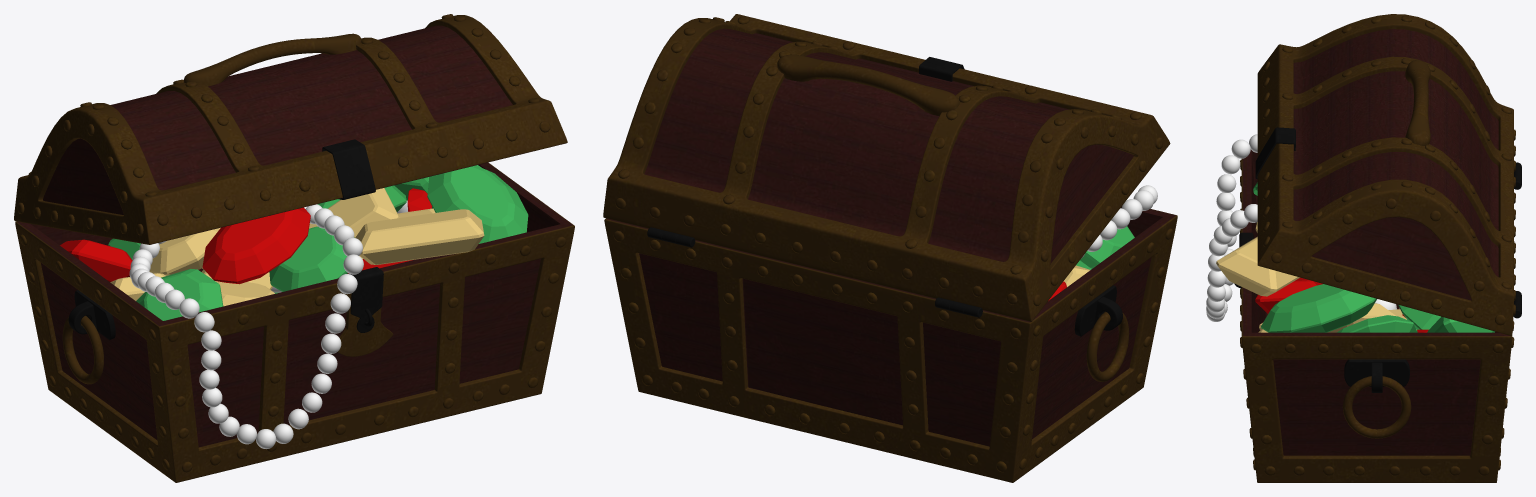
The model's file is asset.glb.
3 renders of one model, left to right at view 1: azimuth 30°, elevation 25°; view 2: azimuth 150°, elevation 25°; view 3: azimuth 270°, elevation 25°, orthographic. The views are drawn at different scales.
Visible parts, largest first — view 1: 13019_aquarium_treasure_chest_v1_L2; view 2: 13019_aquarium_treasure_chest_v1_L2; view 3: 13019_aquarium_treasure_chest_v1_L2.
Part boxes in pixels (box(x1,y1,x2,y2)): 13019_aquarium_treasure_chest_v1_L2: box(14, 14, 574, 482); 13019_aquarium_treasure_chest_v1_L2: box(603, 14, 1177, 482); 13019_aquarium_treasure_chest_v1_L2: box(1206, 14, 1521, 482).
Bounding box in the file's own units: 14.7 × 10.43 × 9.57.
7 materials, 3 textured.
